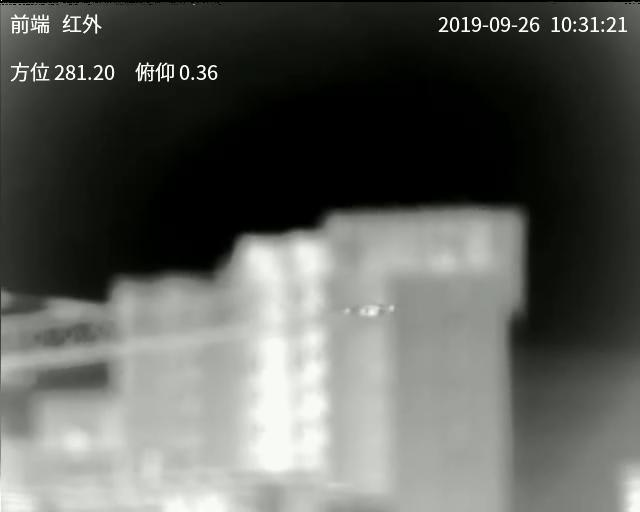uav: (342, 302, 397, 324)
